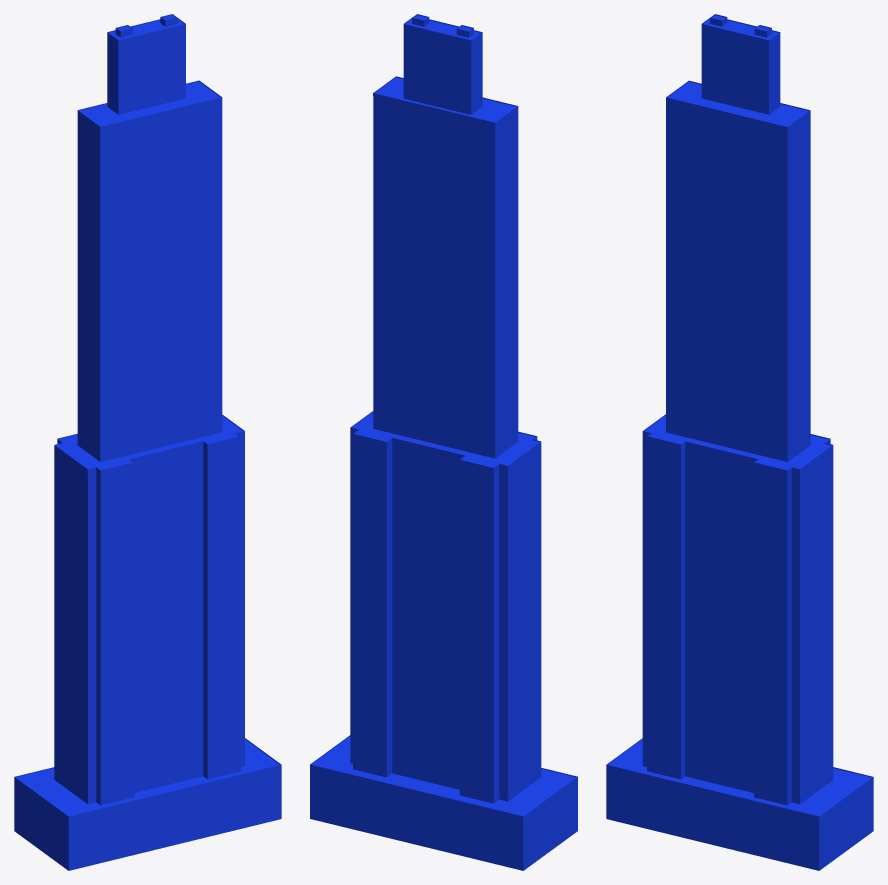
Rendered from Building_04_2.FBX.
3 renders of one model, left to right at view 1: azimuth 30°, elevation 25°; view 2: azimuth 150°, elevation 25°; view 3: azimuth 330°, elevation 25°, orthographic.
Parts seen in each view (by area): view 1: Building_04_2; view 2: Building_04_2; view 3: Building_04_2.
Part boxes in pixels (left/top/right/bottom): Building_04_2: left=14, top=14, right=281, bottom=870; Building_04_2: left=310, top=14, right=577, bottom=870; Building_04_2: left=606, top=14, right=873, bottom=870.
Bounding box in the file's own units: 126696 × 455686 × 56003.
